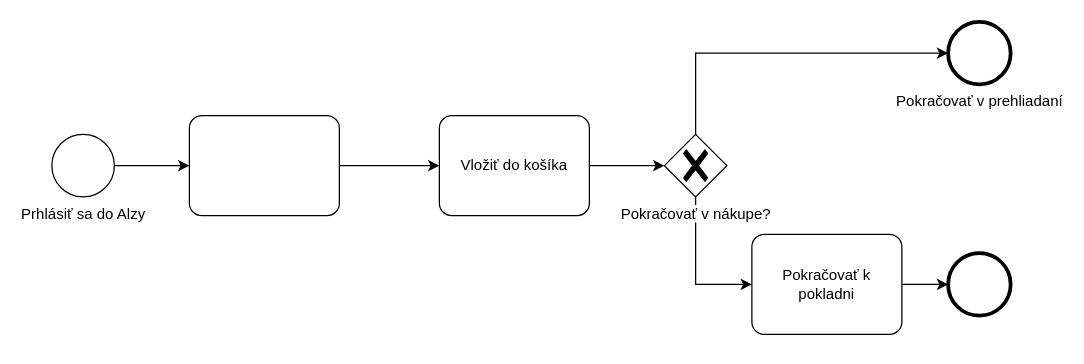
Some shapes in this 1084 by 364 pixel diagram are drawn without their labels. Here are the shapes that lost their labels. From the top down, the centre of each, then its label:
At (263,165): "Hľadať produkt".
At (979,284): "Objednávka dokončená".
